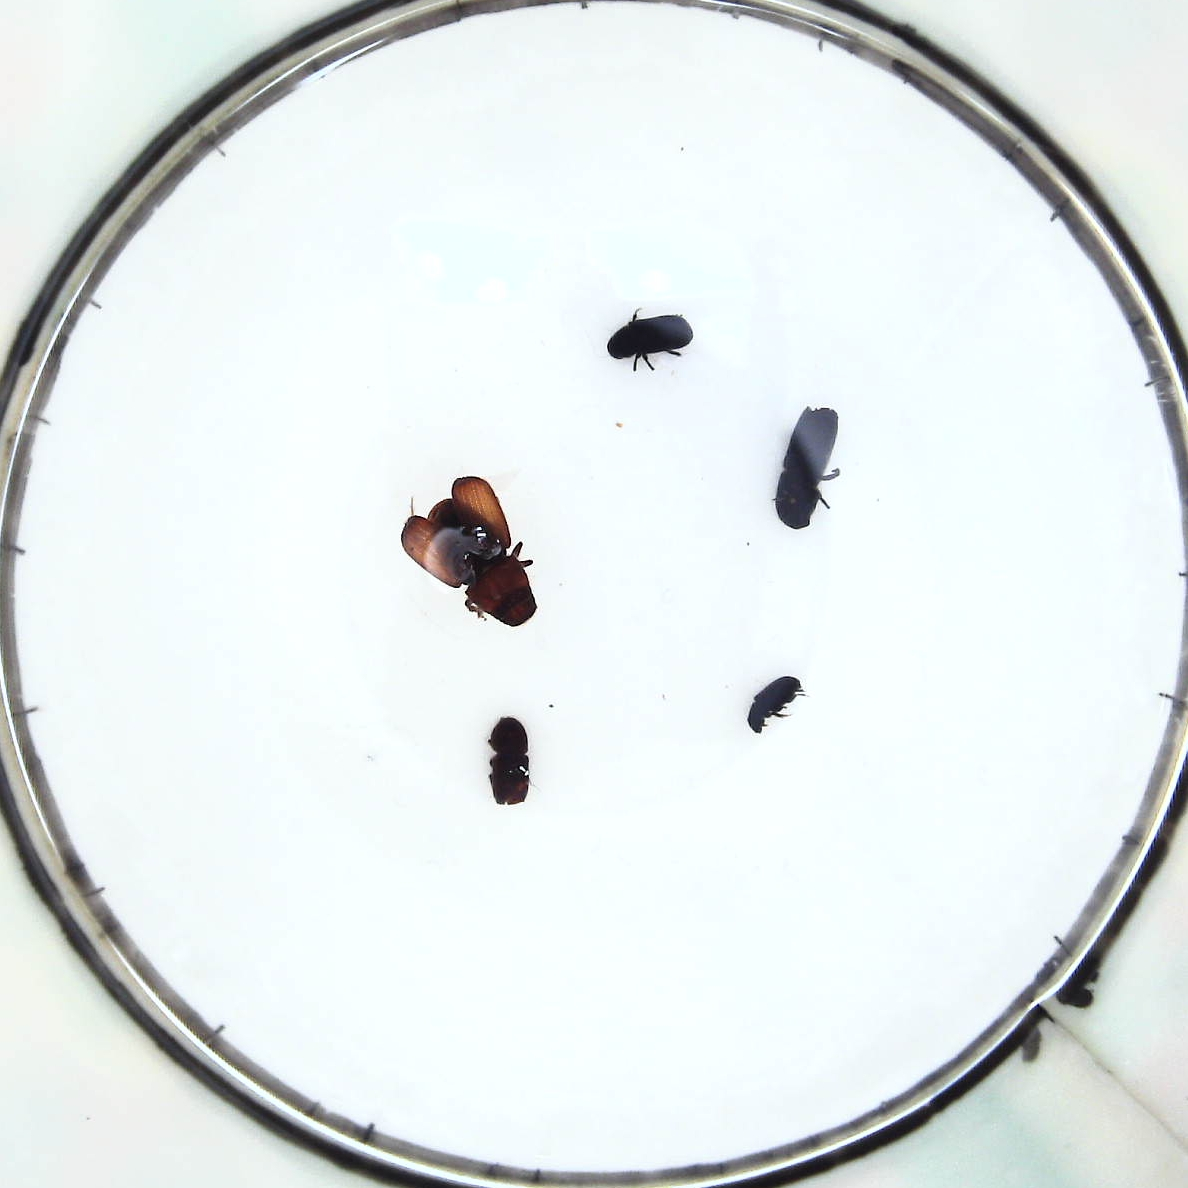Boerner: (776, 403, 840, 532)
Leconte: (401, 471, 542, 624)
Linnaeus: (486, 718, 535, 799)
armandi: (601, 310, 693, 366)
coleoptera: (745, 676, 793, 735)
